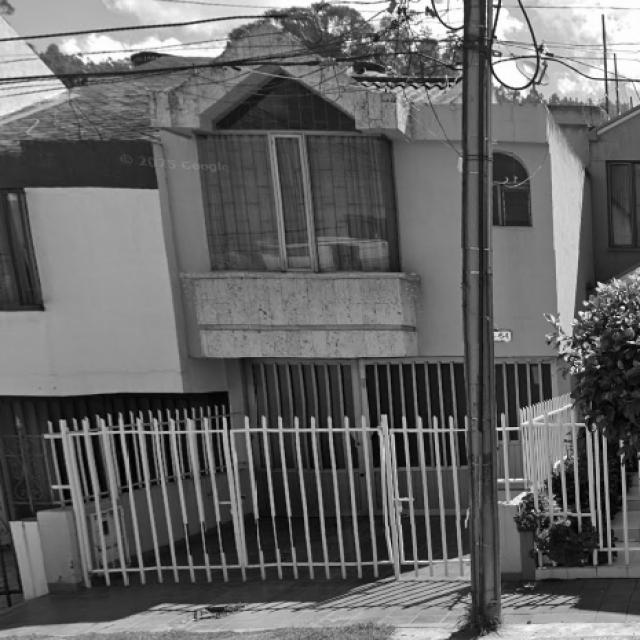Fachada: (153, 25, 588, 574), (0, 57, 226, 518), (589, 106, 639, 279)
Poste: (462, 0, 500, 627)
